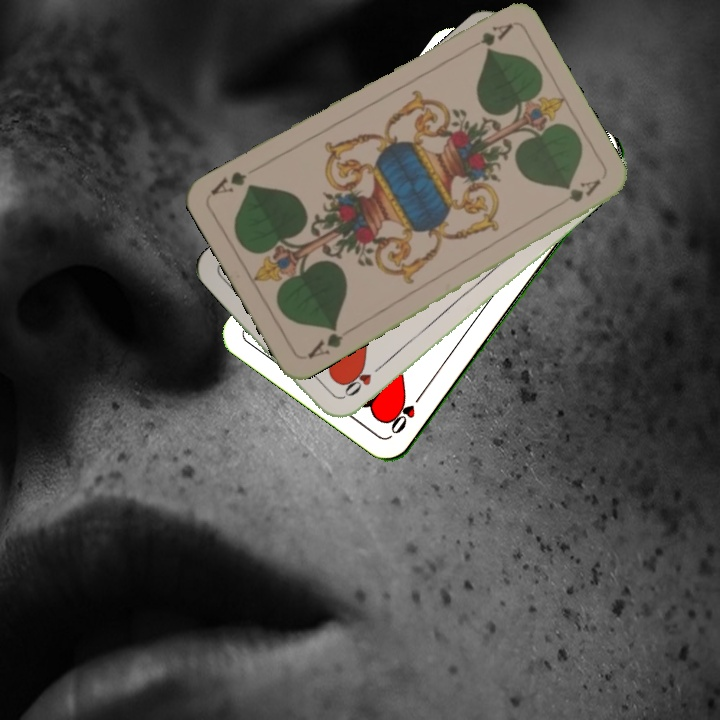GA: (303, 322, 355, 362), (460, 19, 515, 56)
HO: (338, 359, 387, 402), (386, 387, 427, 437)
